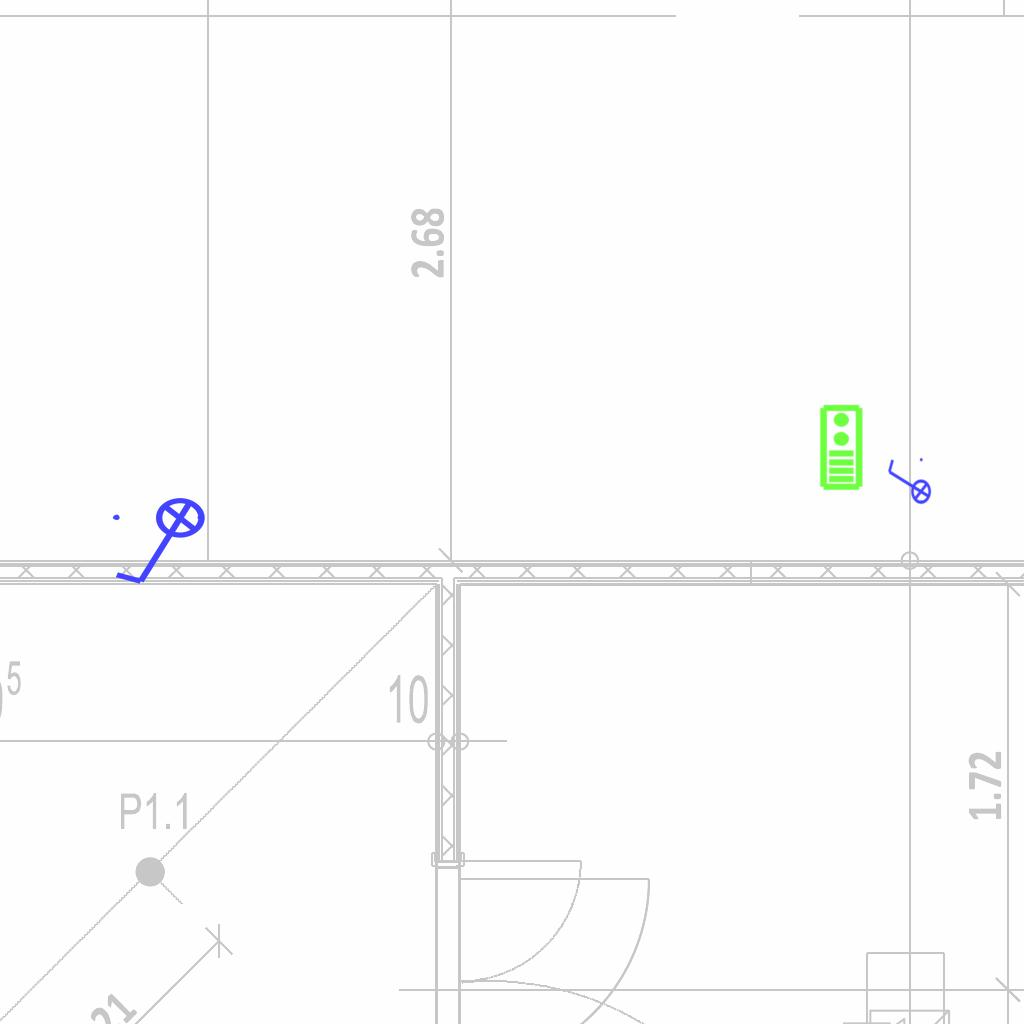Ausschalter_beleuchtet: (107, 496, 219, 592), (884, 455, 932, 511)
Gegensprechanlage_mit_Video: (817, 403, 864, 491)
